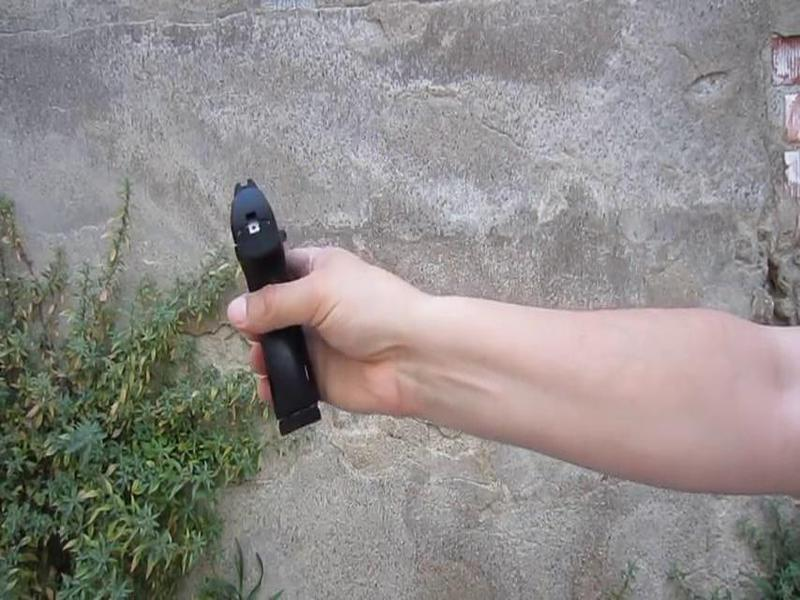Pistola: (207, 159, 342, 445)
